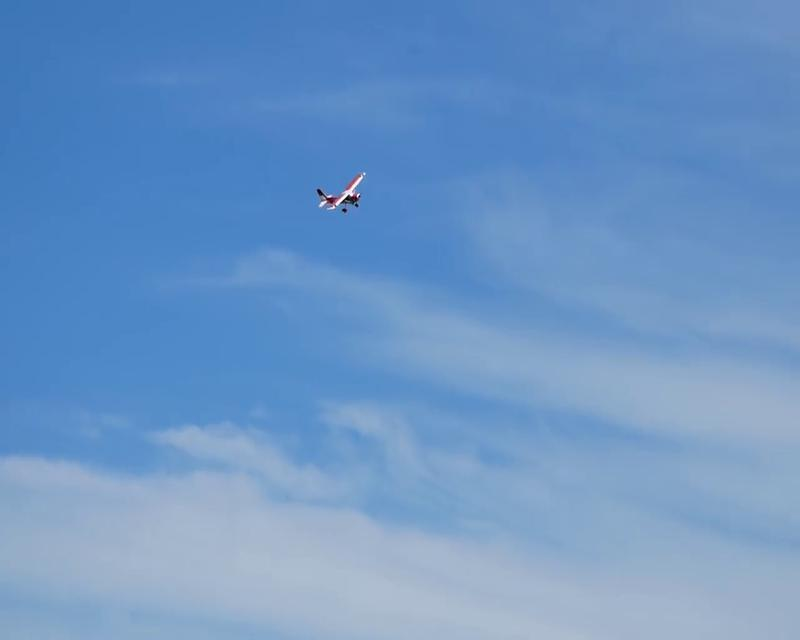UAV: (316, 170, 367, 212)
